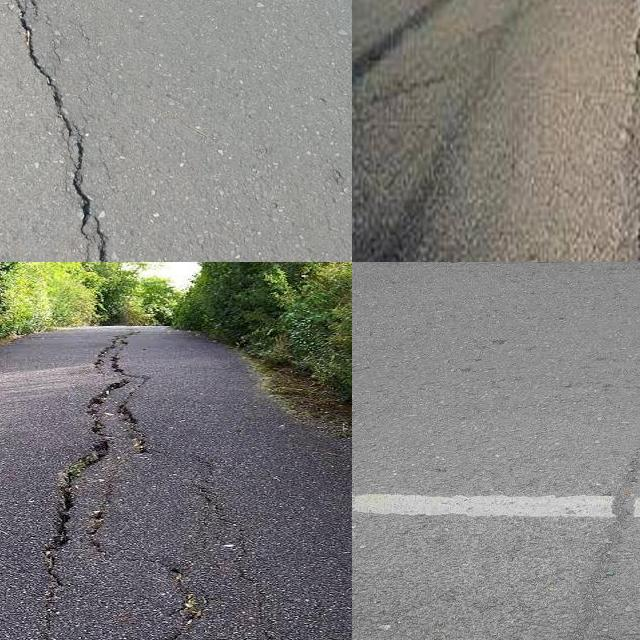Memanjang: (0, 0, 118, 262), (37, 327, 155, 568), (541, 373, 640, 640), (622, 0, 640, 262)
